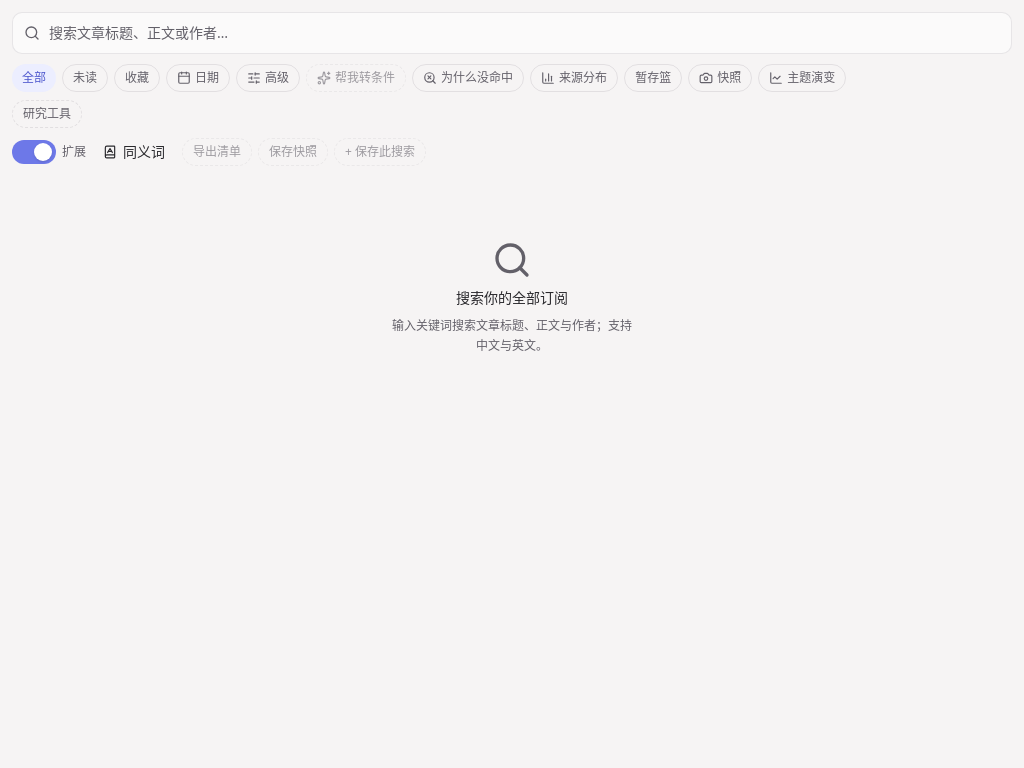
Test case: N142 帮我转条件（SearchPage） › 解析失败 → 面板诚实展示错误；无 chip 时明确提示
Type "rust" into the search field labelled "搜索".
click(512, 33); type("rust")  # box [12,12,1012,54]
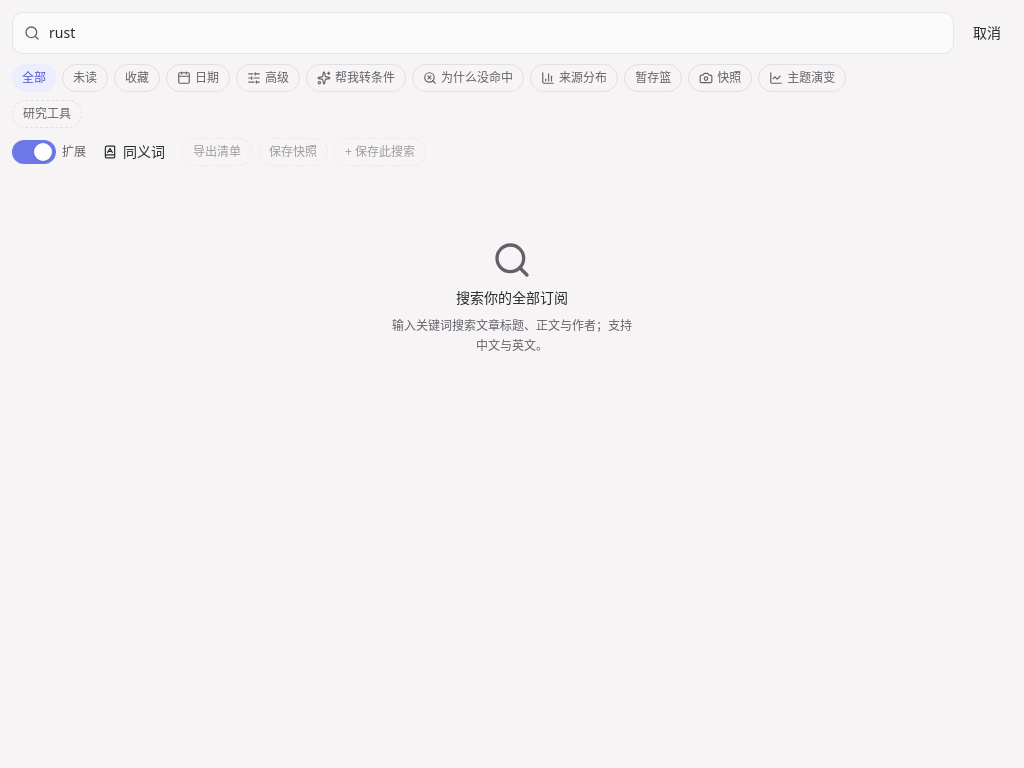
Press Enter in the search field named "搜索", box [12,12,954,54]
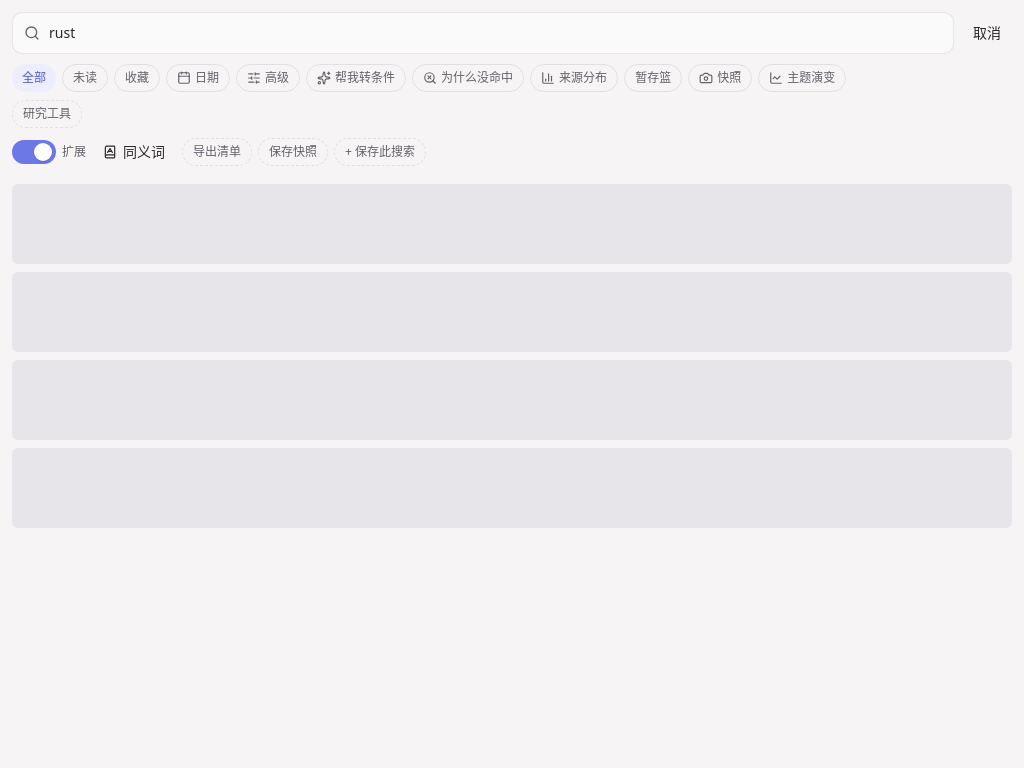
Click the button with test id "parse-query-toggle".
click(356, 78)  # box [306,64,406,92]
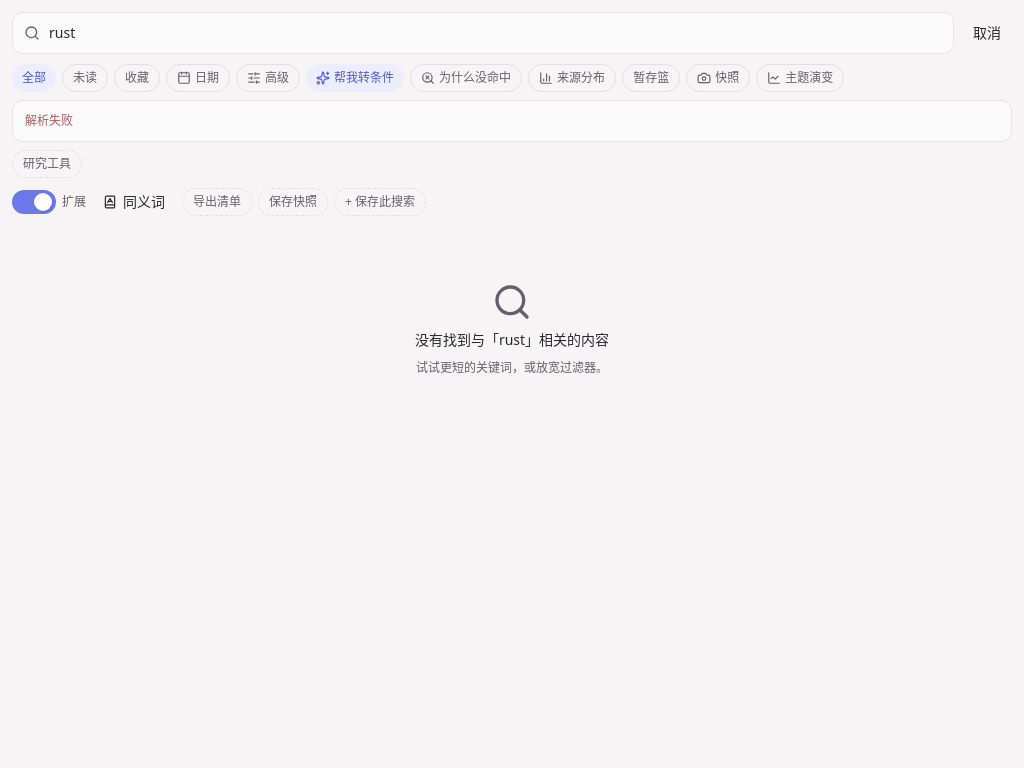
Now the message with test id "parse-preview" reads "解析失败", box [25,112,73,129]
